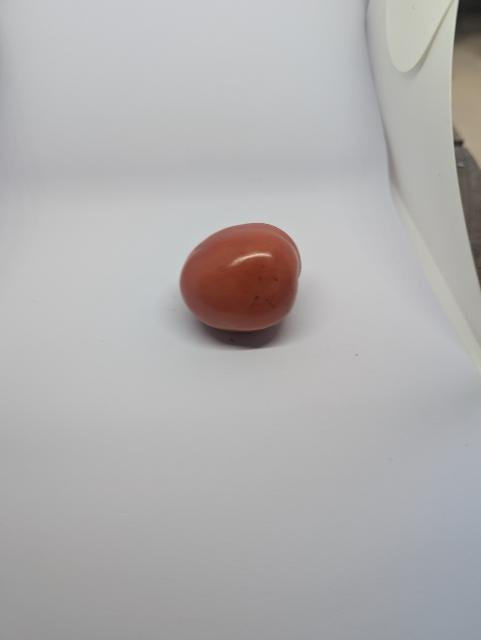red: (173, 214, 324, 343)
